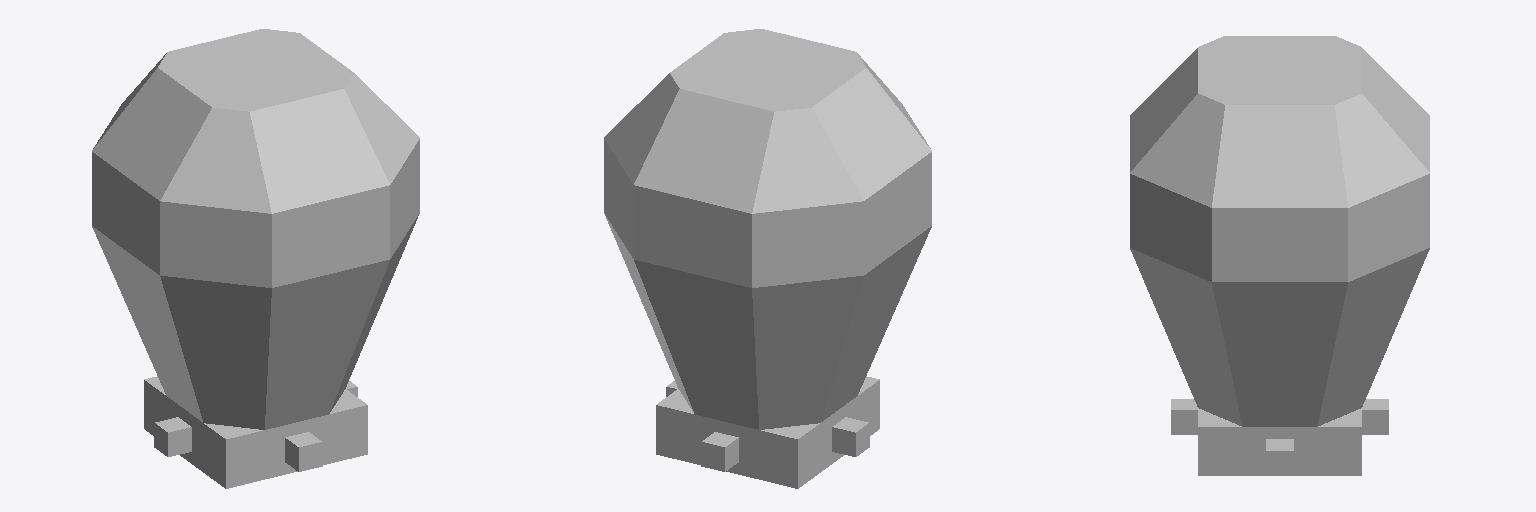
Rendered from balloon.obj.
3 renders of one model, left to right at view 1: azimuth 30°, elevation 25°; view 2: azimuth 150°, elevation 25°; view 3: azimuth 270°, elevation 25°, orthographic.
Parts seen in each view (by area): view 1: base; view 2: base; view 3: base.
Boxes of the visible parts, <box> form: base: <box>92,29,419,488</box>; base: <box>604,29,931,488</box>; base: <box>1130,36,1429,475</box>.
Size of the model in its own units: 0.6875 by 0.9375 by 0.6875.